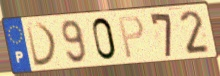0: (91, 16, 119, 62)
2: (179, 9, 212, 56)
7: (149, 12, 173, 59)
9: (60, 19, 89, 66)
D: (24, 21, 59, 69)
P: (117, 14, 146, 60)
